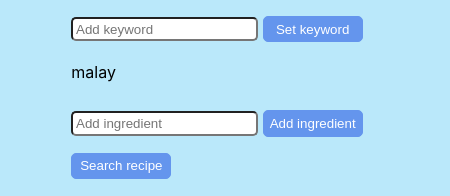
Test: App component › should check if the current input is egg and if egg can get added to the stores ingredients array
Step 1. Type "egg" into the field with test id "ingredientInputID" → (164, 123), box [71, 111, 258, 136]
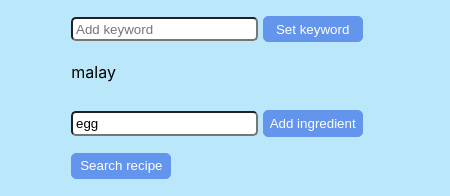
Step 2. Click the button with test id "addIngredientID" → (313, 123), box [263, 110, 363, 137]
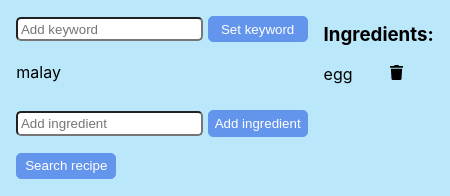
Result: the text "egg" is shown at [324, 64, 353, 84]
Result: the element with test id "ingredientsListID" shows "egg" at [324, 64, 353, 84]
